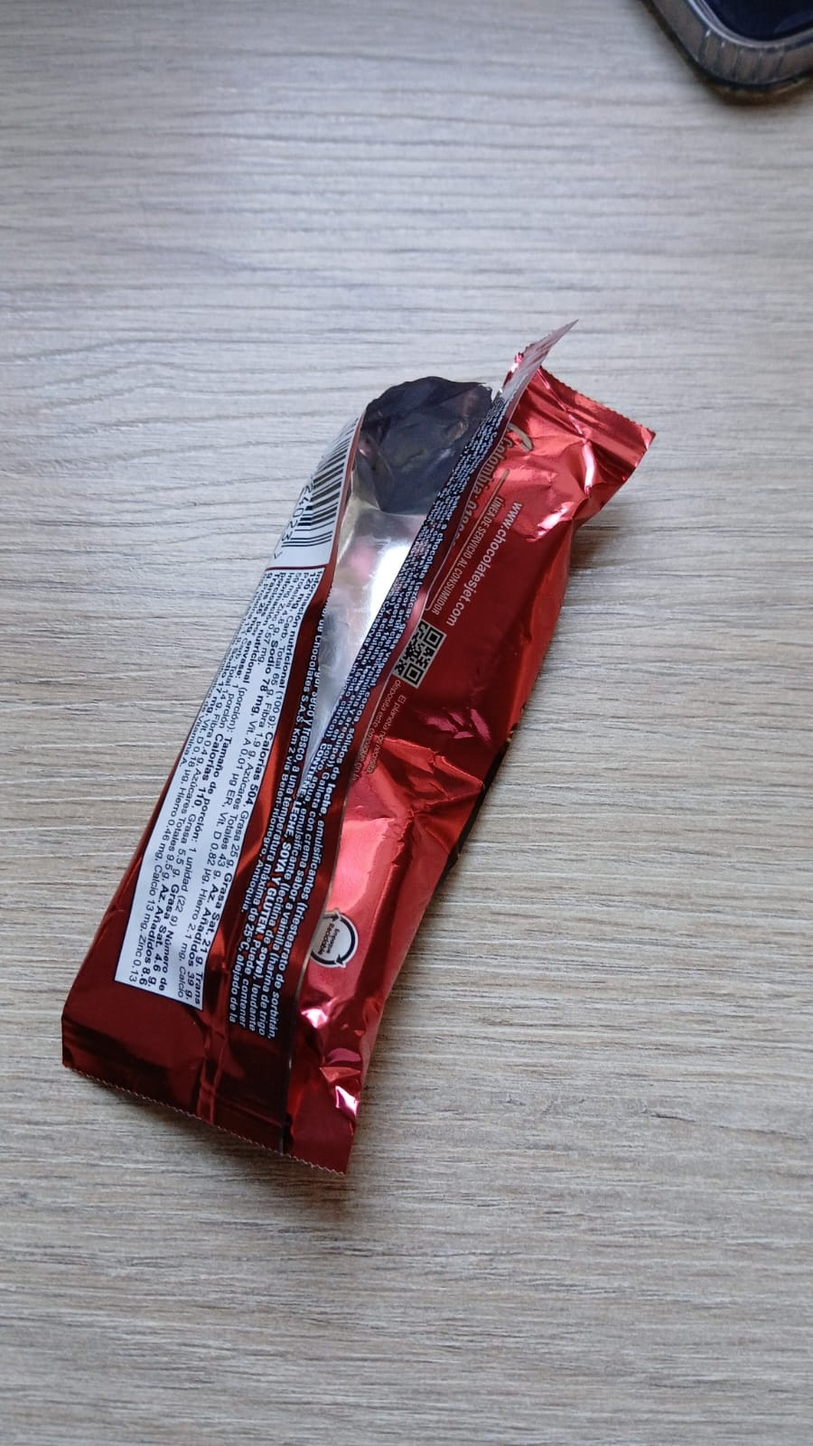Ordinario: (62, 323, 655, 1184)
